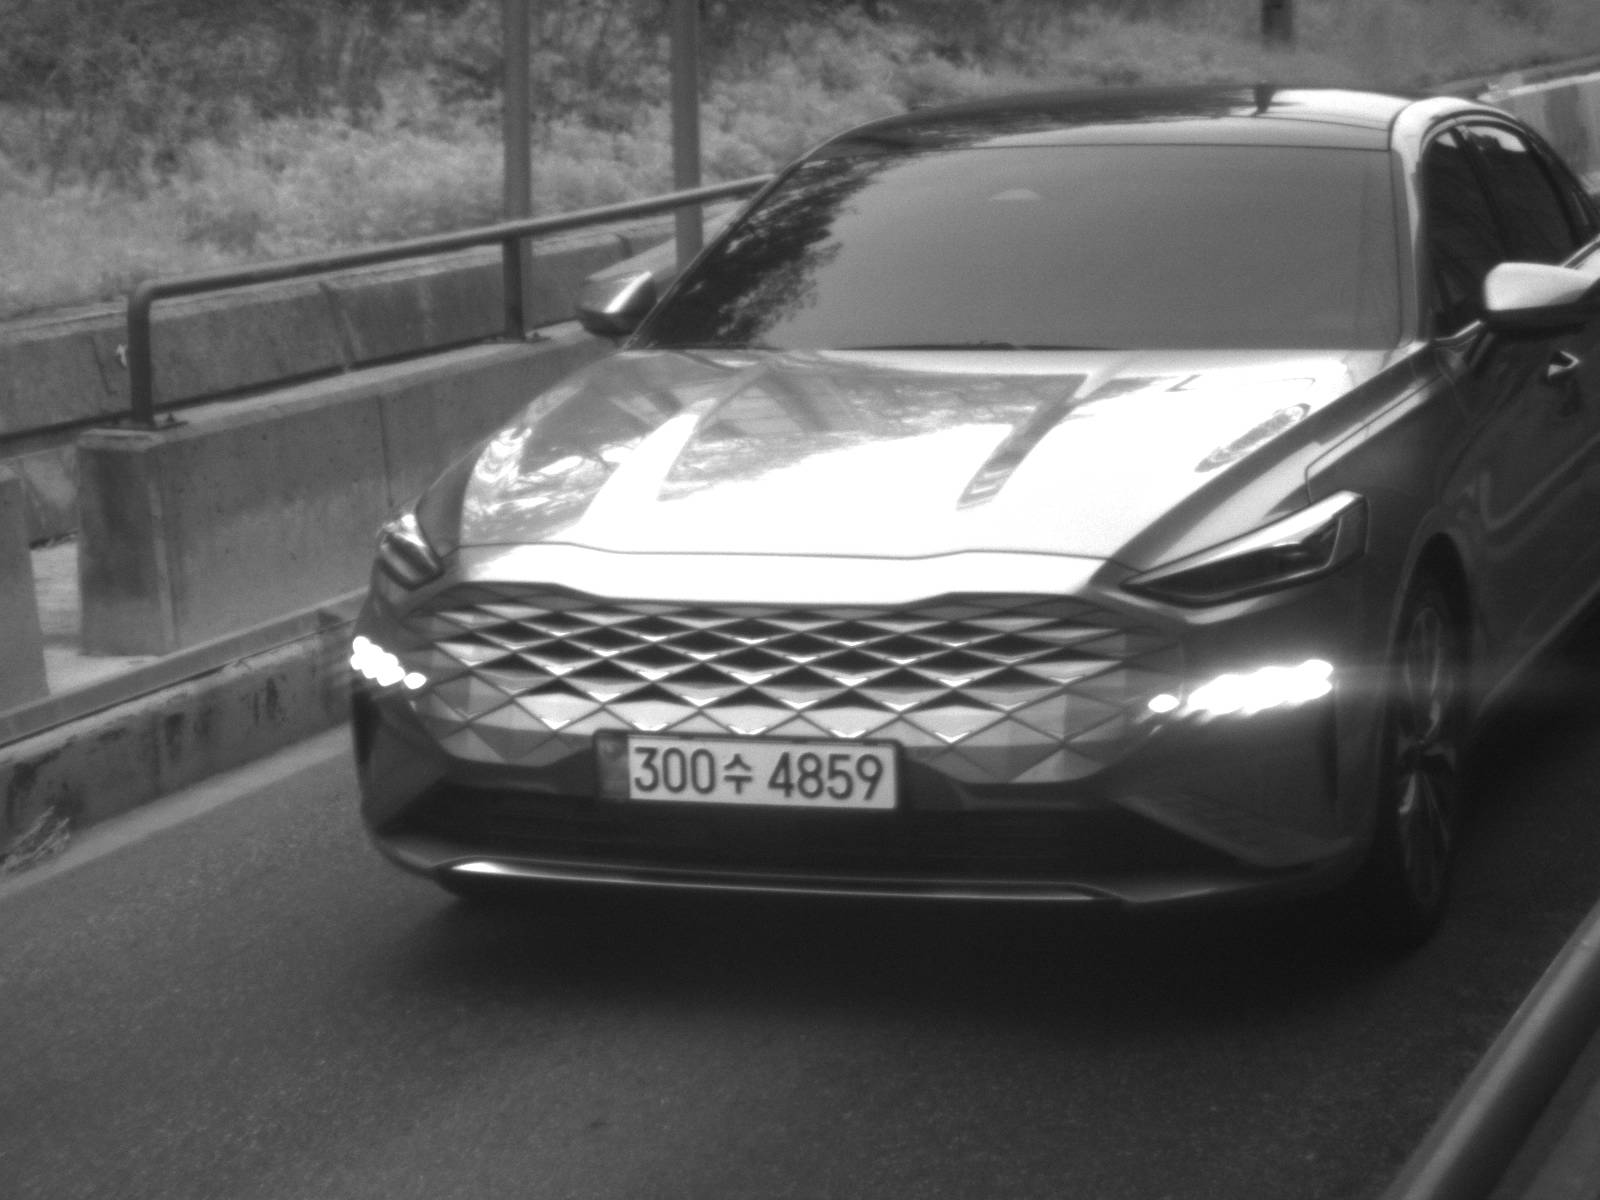car: (337, 73, 1600, 953)
plate: (589, 728, 905, 812)
